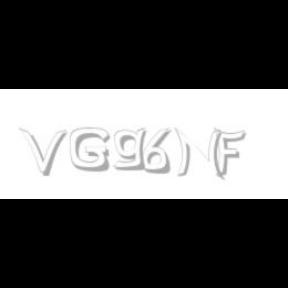6: (142, 128, 170, 176)
F: (213, 128, 245, 178)
G: (70, 128, 110, 172)
N: (174, 128, 222, 180)
V: (19, 128, 67, 176)
g: (114, 128, 150, 171)
